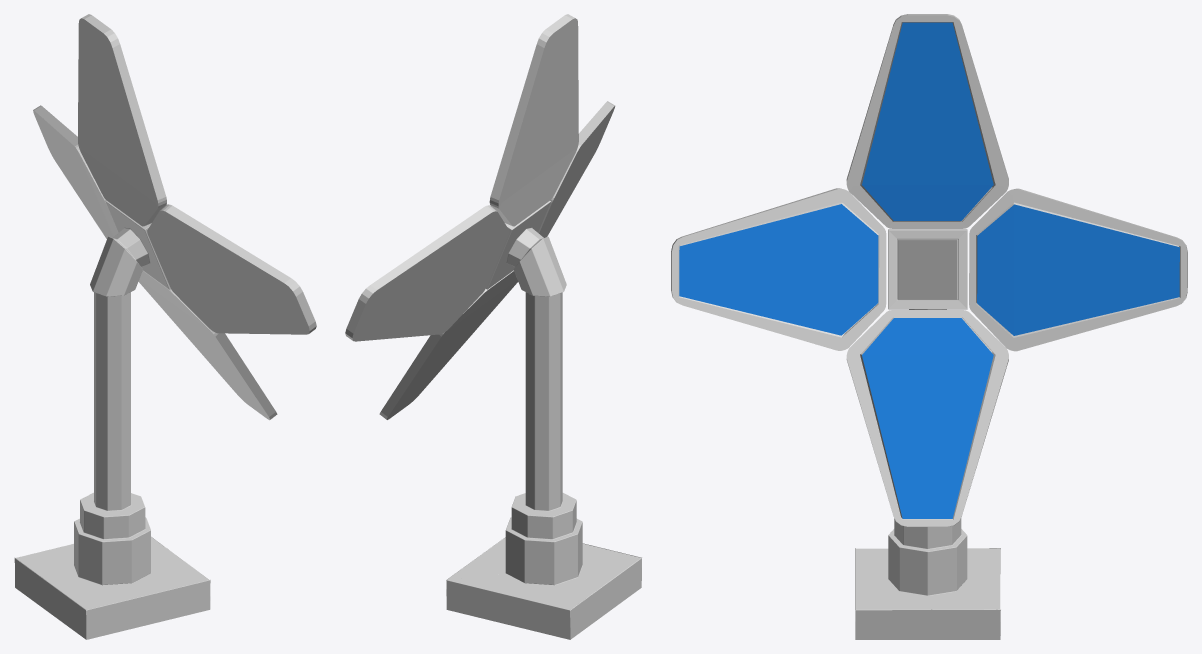
File: PanneauSolaire.fbx
The picture shows the model from 3 angles, left to right: view 1: azimuth 30°, elevation 25°; view 2: azimuth 150°, elevation 25°; view 3: azimuth 270°, elevation 25°; orthographic projection.
Visible parts, largest first — view 1: Ailes, Pied; view 2: Ailes, Pied; view 3: Ailes, Pied.
Part boxes in pixels (x1=…): Ailes: x1=33, y1=14, x2=316, y2=420; Pied: x1=14, y1=201, x2=210, y2=639; Ailes: x1=345, y1=14, x2=615, y2=419; Pied: x1=446, y1=201, x2=641, y2=639; Ailes: x1=671, y1=14, x2=1187, y2=526; Pied: x1=855, y1=229, x2=1000, y2=639.
Size of the model in its own units: 67.76 by 175 by 139.
